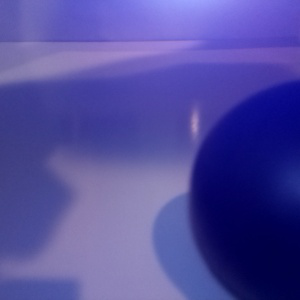dead_ball: (190, 79, 300, 300)
